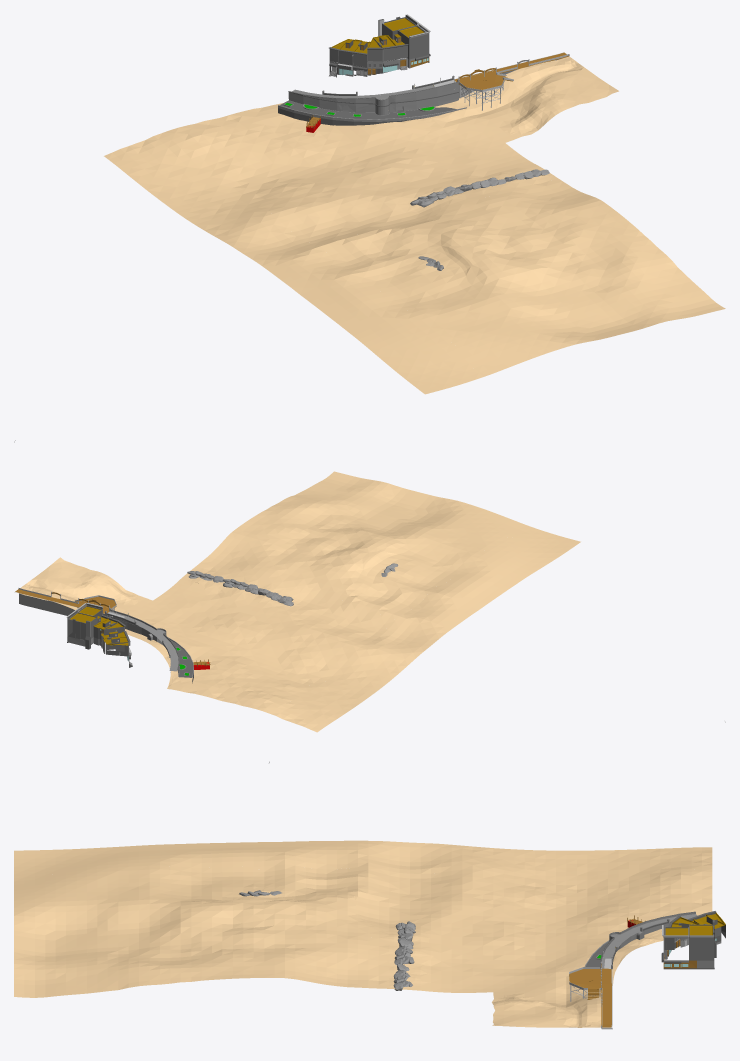
Rendered from brook_s_11.FBX.
The picture shows the model from 3 angles, top to bottom: view 1: azimuth 30°, elevation 25°; view 2: azimuth 150°, elevation 25°; view 3: azimuth 270°, elevation 25°; orthographic projection. The views are drawn at different scales.
Visible parts, largest first — view 1: unnamed, null; view 2: unnamed, null; view 3: unnamed, null.
Part boxes in pixels (left/top/right/bottom): unnamed: left=14, top=14, right=725, bottom=442; null: left=163, top=43, right=498, bottom=245; unnamed: left=15, top=471, right=725, bottom=732; null: left=116, top=574, right=394, bottom=713; unnamed: left=14, top=761, right=725, bottom=1029; null: left=368, top=868, right=721, bottom=964.
Size of the model in its own units: 448 by 80.61 by 358.
